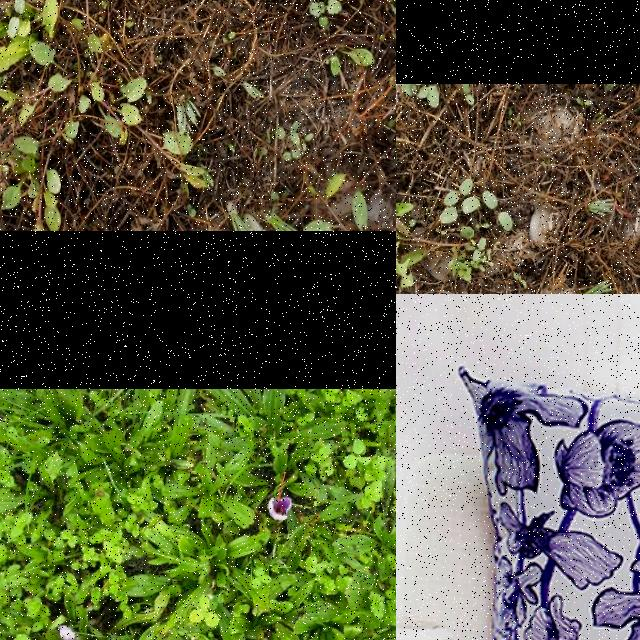flower: (268, 472, 292, 522), (59, 626, 77, 640)
